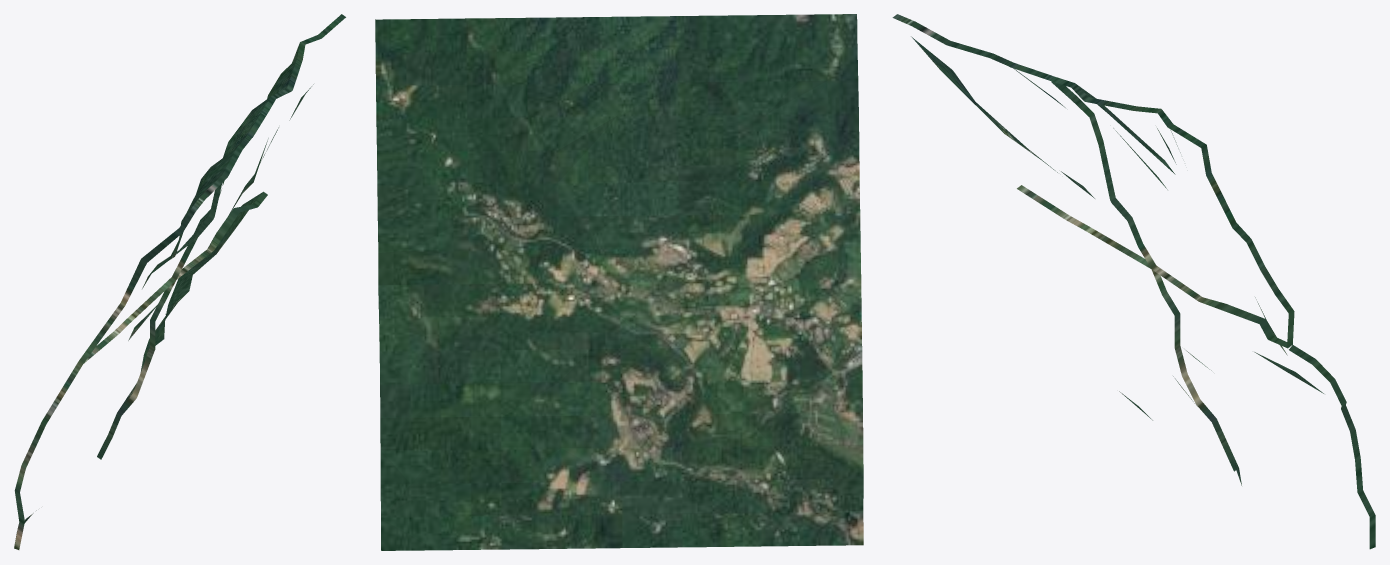
3 views of the same model, side by side, from view 1: azimuth 30°, elevation 25°; view 2: azimuth 150°, elevation 25°; view 3: azimuth 270°, elevation 25° (orthographic). The views are drawn at different scales.
Bounding box in the file's own units: 2297 × 2360 × 2220.
Materials: 1 (1 with a texture image).
